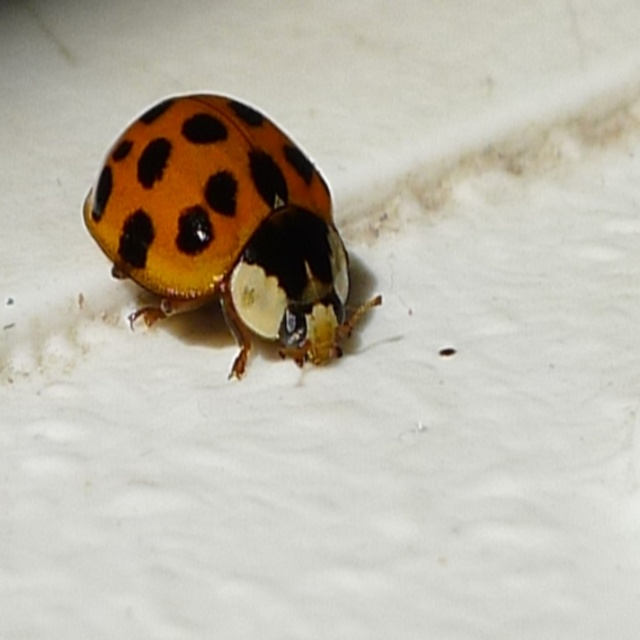Ladybug: (78, 90, 381, 379)
